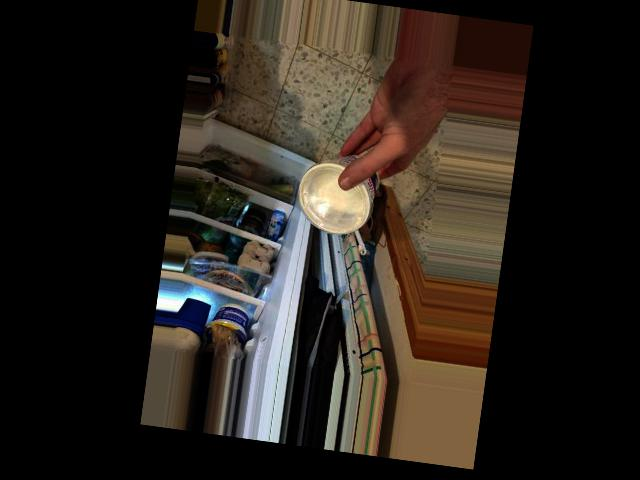cotage: (298, 158, 387, 247)
